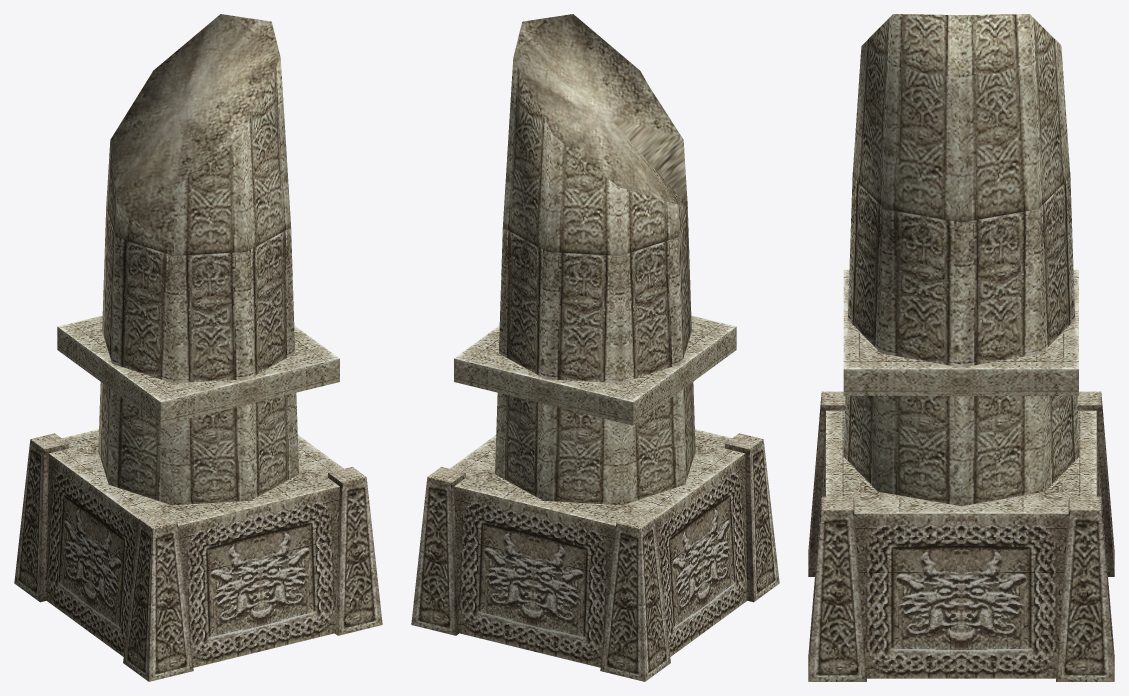
Rendered from general_obj_bigtoewr01.fbx.
3 views of the same model, side by side, from view 1: azimuth 30°, elevation 25°; view 2: azimuth 150°, elevation 25°; view 3: azimuth 270°, elevation 25° (orthographic). The views are drawn at different scales.
Parts seen in each view (by area): view 1: Sphere01; view 2: Sphere01; view 3: Sphere01.
Part boxes in pixels (x1=…): Sphere01: x1=14, y1=14, x2=382, y2=681; Sphere01: x1=411, y1=14, x2=779, y2=681; Sphere01: x1=808, y1=14, x2=1114, y2=681.
Size of the model in its own units: 5.22 by 12.05 by 5.21.
